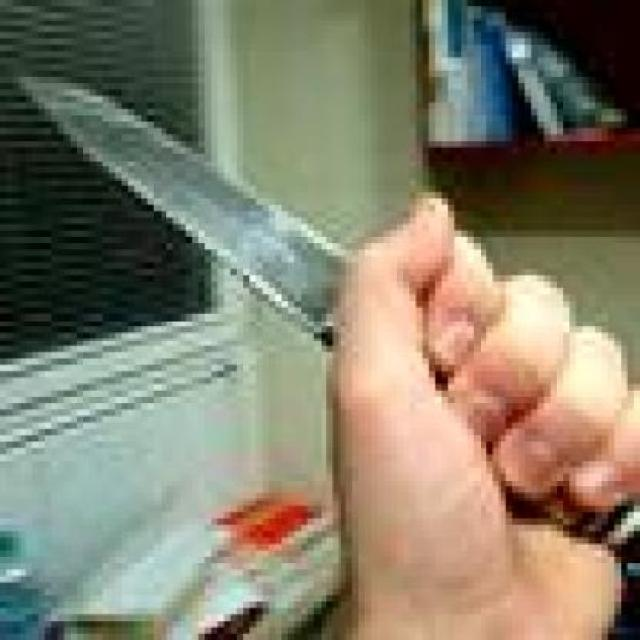knife: (26, 82, 634, 553)
